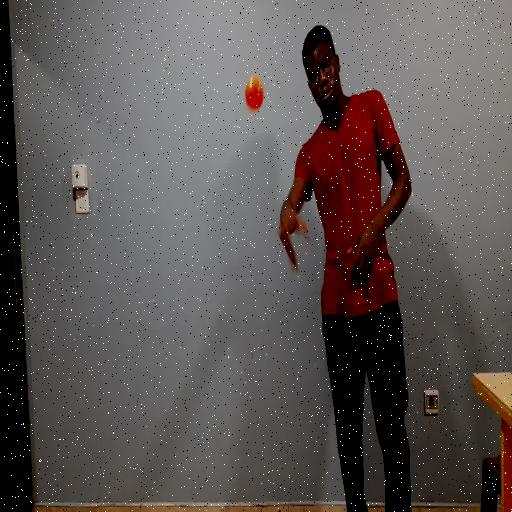plastic-ball: (246, 76, 263, 109)
